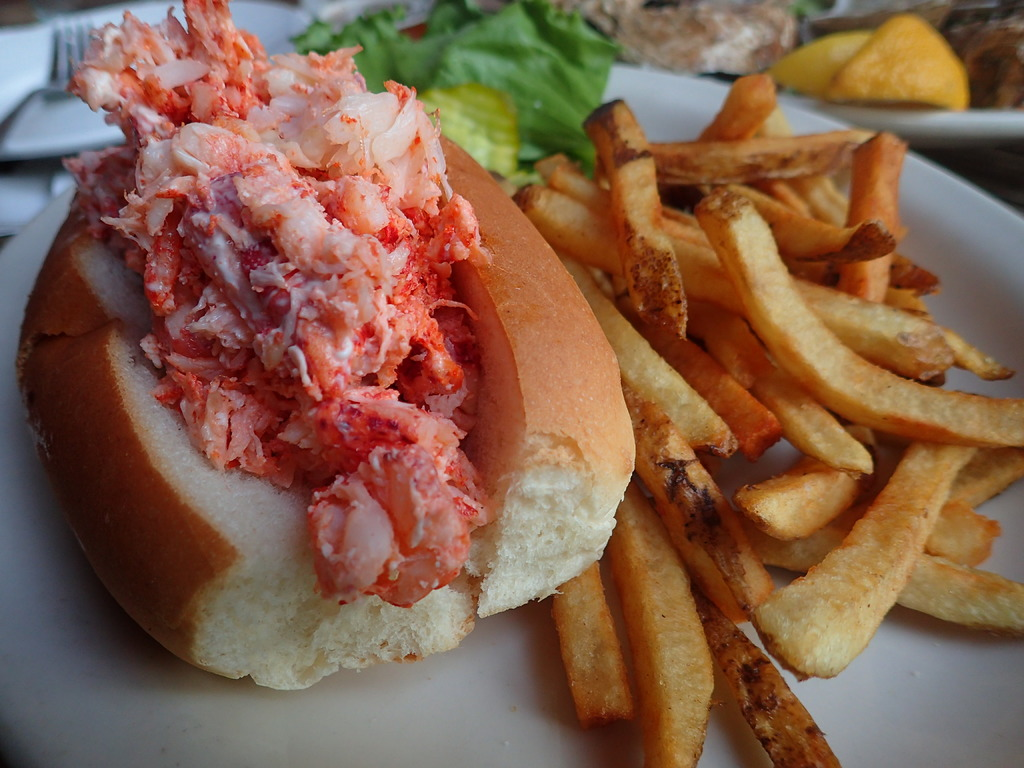French fries: (495, 98, 1024, 730)
